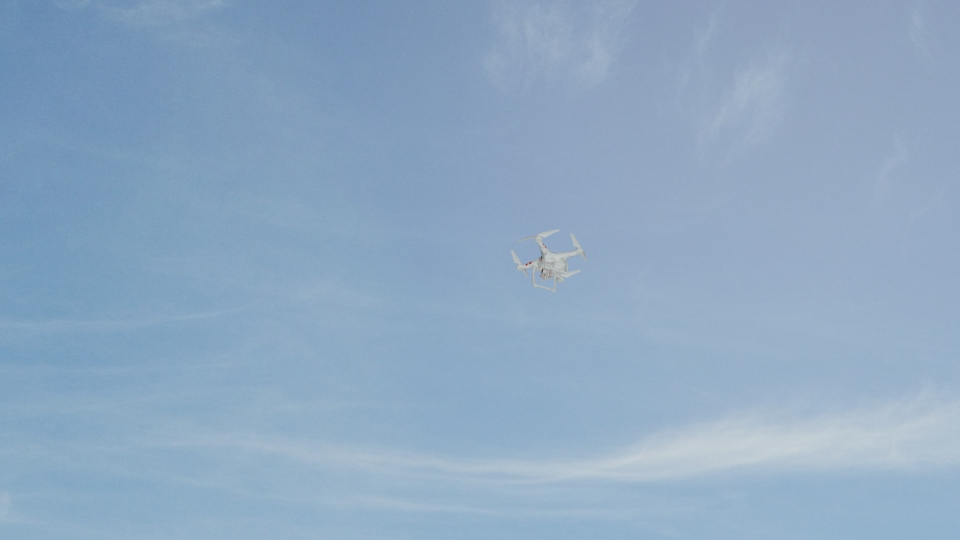drone: (508, 227, 586, 292)
